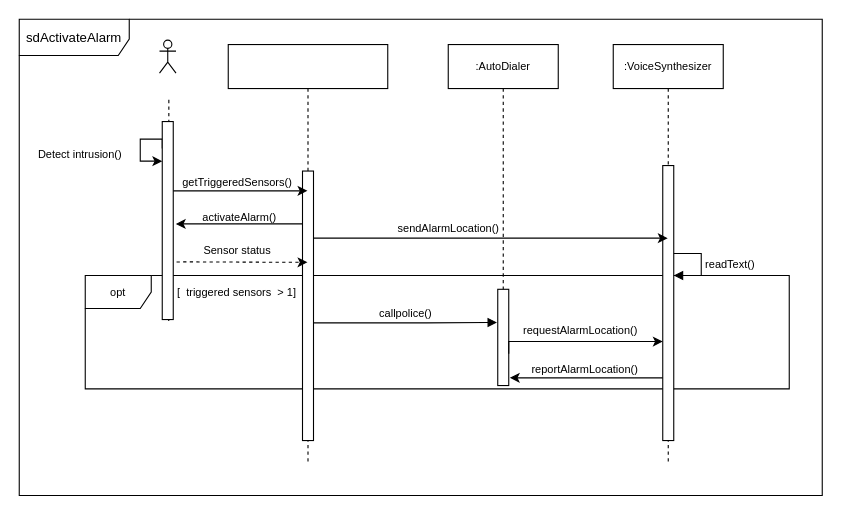
This 842x515 diagram has some shape labels left out. Each missing label, with the box of its shape:
:Processor: (227, 43, 388, 463)
Sensor Alarm: (158, 39, 176, 73)
